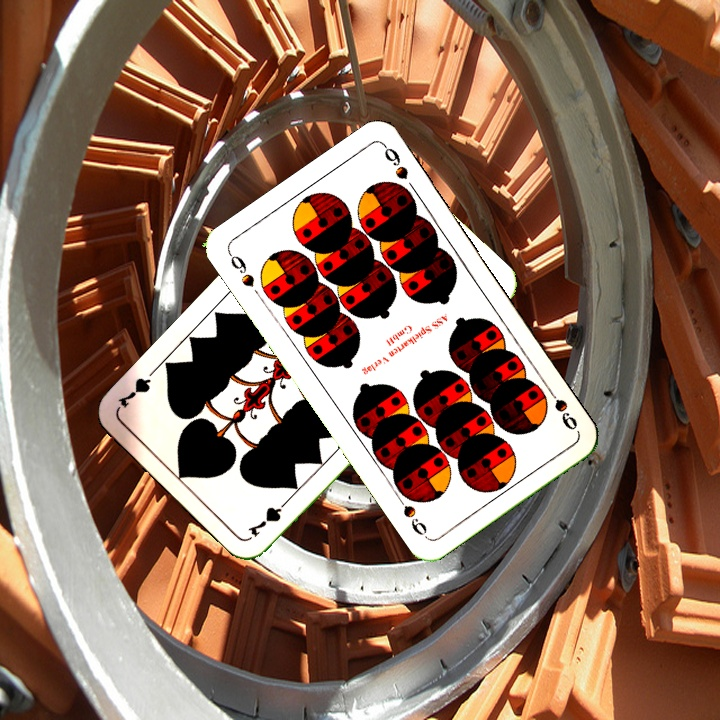G7: (244, 493, 294, 540)
S9: (541, 381, 580, 433), (224, 248, 257, 290)
